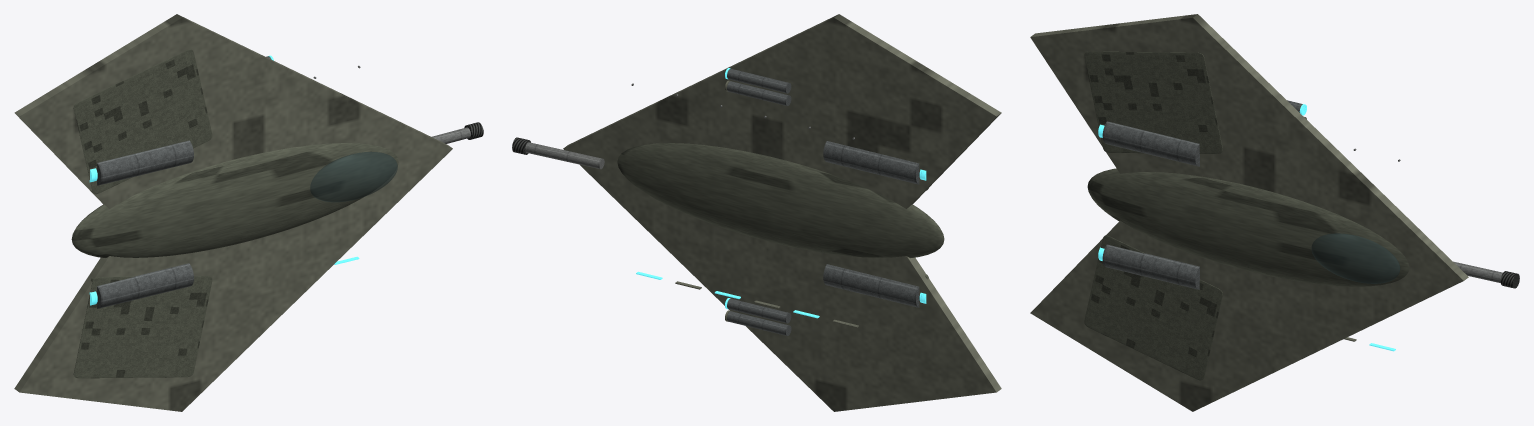
Rendered from v-u29-vanguard-stealth-striker-lod0.glb.
3 renders of one model, left to right at view 1: azimuth 30°, elevation 25°; view 2: azimuth 150°, elevation 25°; view 3: azimuth 330°, elevation 25°, orthographic.
Visible parts, largest first — view 1: flying_wing_planform, flying_wing_core, flying_wing_elevon_1, flying_wing_elevon_-1, flying_wing_canopy, flying_wing_engine_0, flying_wing_engine_1; view 2: flying_wing_planform, flying_wing_core, flying_wing_engine_0, flying_wing_engine_1, flying_wing_gun_barrel_0, flying_wing_-1_tube_1, flying_wing_1_tube_1, flying_wing_1_tube_2, flying_wing_-1_tube_2; view 3: flying_wing_planform, flying_wing_core, flying_wing_elevon_1, flying_wing_elevon_-1, flying_wing_canopy, flying_wing_engine_0, flying_wing_engine_1, flying_wing_gun_barrel_0.
Boxes of the visible parts, x1,y1,x2,y2 form: flying_wing_planform: [14, 14, 452, 411]; flying_wing_core: [71, 143, 398, 257]; flying_wing_elevon_1: [73, 49, 212, 194]; flying_wing_elevon_-1: [73, 276, 212, 378]; flying_wing_canopy: [310, 151, 397, 202]; flying_wing_engine_0: [97, 263, 193, 308]; flying_wing_engine_1: [97, 140, 193, 185]; flying_wing_planform: [563, 14, 1001, 411]; flying_wing_core: [617, 143, 944, 258]; flying_wing_engine_0: [823, 264, 919, 307]; flying_wing_engine_1: [823, 141, 919, 184]; flying_wing_gun_barrel_0: [525, 142, 604, 169]; flying_wing_-1_tube_1: [727, 311, 791, 335]; flying_wing_1_tube_1: [727, 81, 791, 105]; flying_wing_1_tube_2: [727, 68, 791, 93]; flying_wing_-1_tube_2: [727, 298, 791, 323]; flying_wing_planform: [1030, 14, 1468, 411]; flying_wing_core: [1087, 168, 1409, 286]; flying_wing_elevon_1: [1084, 51, 1222, 153]; flying_wing_elevon_-1: [1084, 235, 1222, 380]; flying_wing_canopy: [1311, 233, 1400, 283]; flying_wing_engine_0: [1102, 244, 1199, 289]; flying_wing_engine_1: [1102, 121, 1199, 166]; flying_wing_gun_barrel_0: [1453, 261, 1502, 283].
Size of what is drawn, in the model's own units: 15.13 by 12.04 by 1.42.
7 materials, 7 textured.
